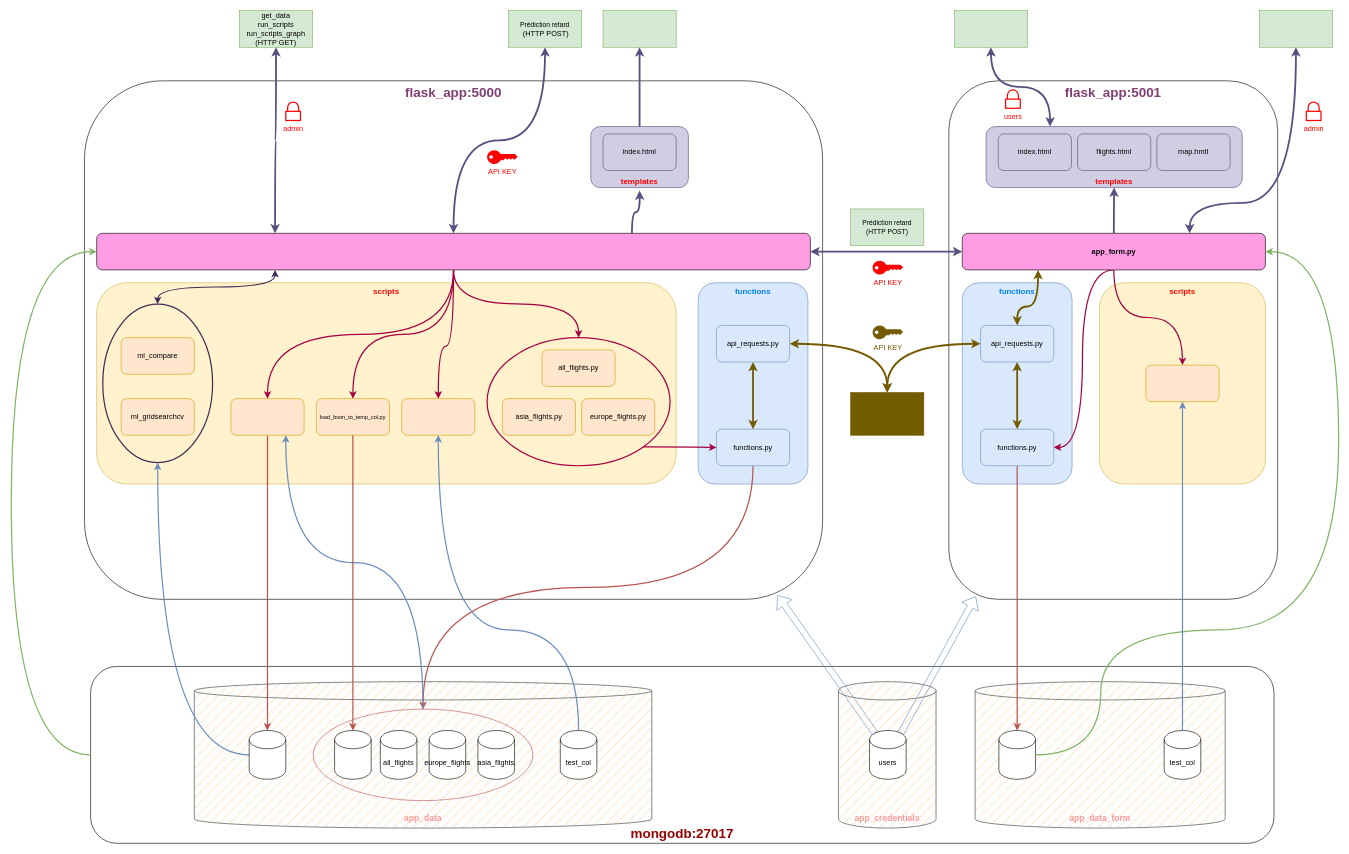
Some shapes in this 1349 by 854 pixel diagram are drawn without their labels. The shapes that lost their labels are listed below. From the top down, each one's centre as x and y in pixels, then its label:
At point 639,28: "Page Web (HTTP GET)".
At point 991,28: "Pages Web (HTTP GET)".
At point 1296,28: "run_scripts (HTTP GET)".
At point 453,251: "app.py".
At point 1182,383: "test_pred_distant.py".
At point 267,416: "concat_db.py".
At point 438,416: "test_pred_.py".
At point 887,413: "Visualcrossing API LHOpenAPI Aviationstack API".
At point 267,754: "final_flights".
At point 352,754: "temp_col".
At point 1016,754: "form_flight_infos".
